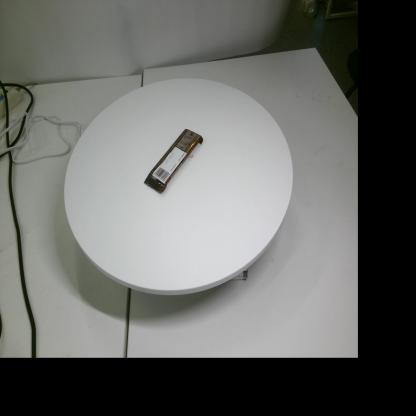Chocolate: (144, 129, 203, 193)
